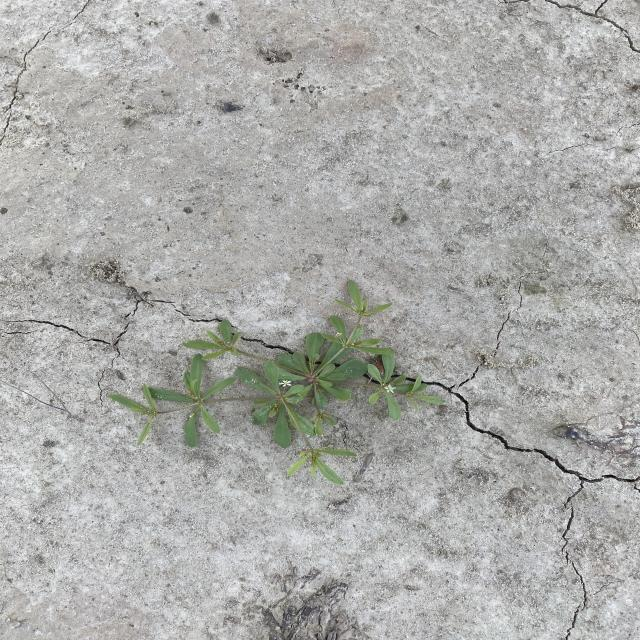Carpetweed: (102, 278, 447, 486)
